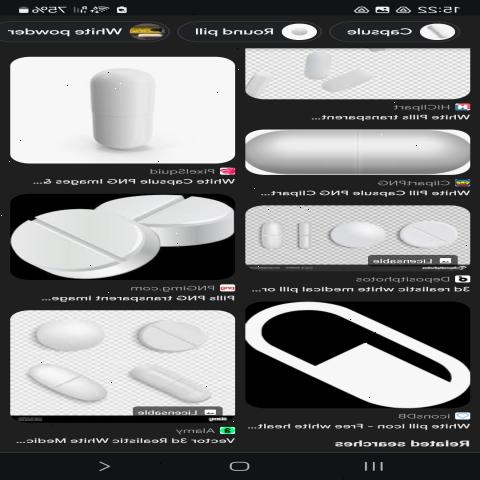Pill: (54, 60, 178, 159), (237, 130, 471, 180), (9, 203, 162, 278), (100, 193, 237, 247), (10, 356, 115, 406), (114, 364, 218, 407), (17, 311, 111, 358), (128, 320, 211, 360), (392, 212, 458, 255), (328, 213, 389, 255), (271, 49, 342, 83), (313, 63, 380, 96), (250, 221, 284, 254), (292, 218, 316, 260)
